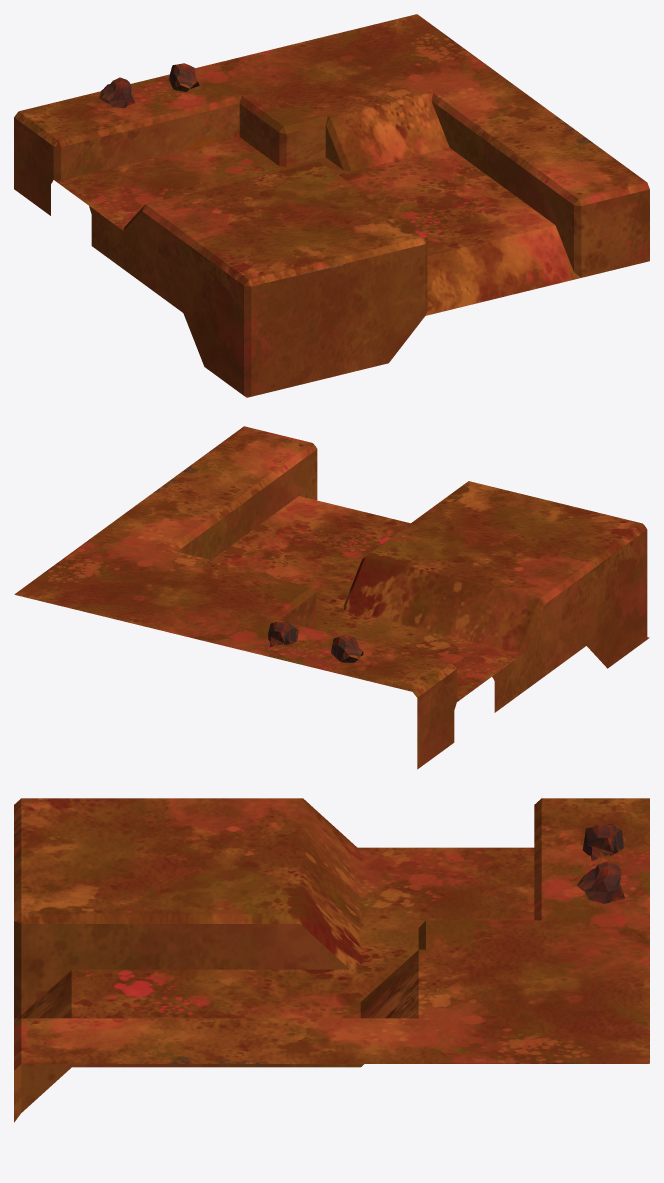
File: lvl_2-cnk_0.obj
3 renders of one model, top to bottom at view 1: azimuth 30°, elevation 25°; view 2: azimuth 150°, elevation 25°; view 3: azimuth 270°, elevation 25°, orthographic. The views are drawn at different scales.
Visible parts, largest first — view 1: chunk.003, Icosphere.002, Icosphere.001; view 2: chunk.003, Icosphere.002, Icosphere.001; view 3: chunk.003, Icosphere.001, Icosphere.002.
Part boxes in pixels (box(x1,y1,x2,y2)): chunk.003: box(14, 14, 649, 397); Icosphere.002: box(99, 77, 135, 108); Icosphere.001: box(168, 63, 199, 91); chunk.003: box(14, 426, 649, 769); Icosphere.002: box(331, 634, 363, 662); Icosphere.001: box(268, 621, 298, 647); chunk.003: box(14, 798, 649, 1122); Icosphere.001: box(576, 861, 625, 903); Icosphere.002: box(582, 823, 623, 860).
Bounding box in the file's own units: 99 × 32.41 × 99.
